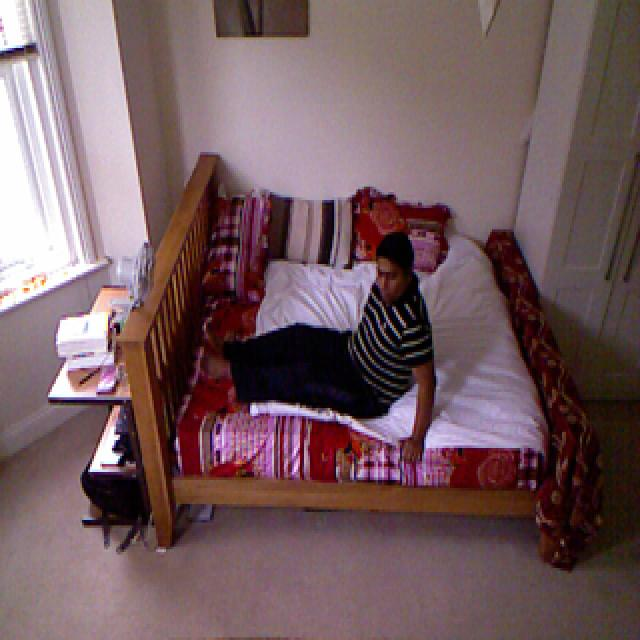sitting: (192, 231, 439, 461)
